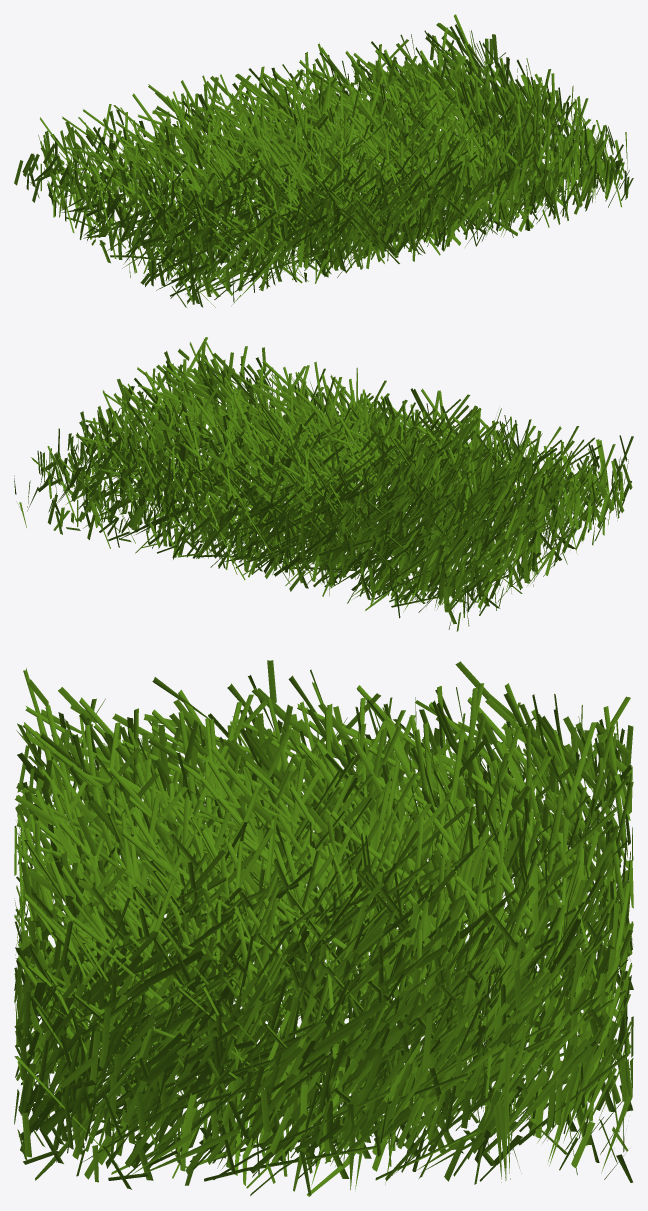
File: grass.fbx
3 renders of one model, top to bottom at view 1: azimuth 30°, elevation 25°; view 2: azimuth 150°, elevation 25°; view 3: azimuth 270°, elevation 25°, orthographic. The views are drawn at different scales.
Visible parts, largest first — view 1: weed14_Material__4882; view 2: weed14_Material__4882; view 3: weed14_Material__4882.
Part boxes in pixels (box(x1,y1,x2,y2)): weed14_Material__4882: box(14, 14, 633, 307); weed14_Material__4882: box(14, 337, 633, 631); weed14_Material__4882: box(14, 660, 633, 1196).
Size of the model in its own units: 3.87 by 0.6011 by 2.51.
